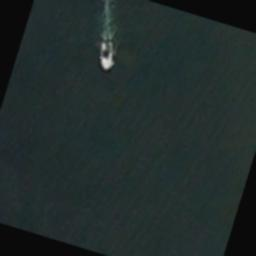boat: (92, 37, 118, 72)
